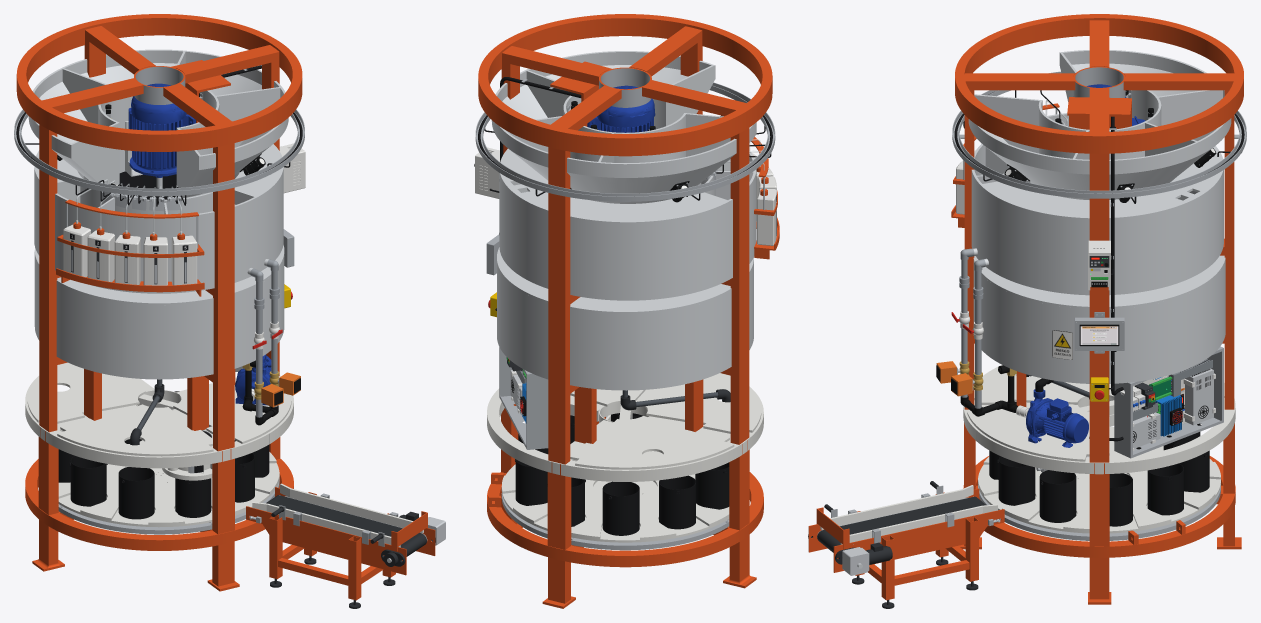
The model's file is maquina.glb.
The picture shows the model from 3 angles, left to right: view 1: azimuth 30°, elevation 25°; view 2: azimuth 150°, elevation 25°; view 3: azimuth 270°, elevation 25°; orthographic projection. The views are drawn at different scales.
Visible parts, largest first — view 1: estructura_01, tanque_agua_01, aro_superior_01, tanque_resina_01, tolvas_solidos_01, base_01, envases_aditivos, segundo_piso_01, estructura_01_entrepiso, bandeja_01, estructura_01_tapa, bandeja_portacables (+28 smaller); view 2: tanque_resina_01, estructura_01, tanque_agua_01, tolvas_solidos_01, aro_superior_01, base_01, estructura_01_entrepiso, segundo_piso_02, bandeja_01, estructura_01_tapa, bandeja_portacables, cubierta_tanque_agua__inox (+20 smaller); view 3: tanque_resina_01, tanque_agua_01, estructura_01, tolvas_solidos_01, aro_superior_01, base_01, bandeja_01, estructura_01_entrepiso, estructura_01_tapa, bandeja_portacables, cubierta_tanque_agua__inox, segundo_piso_03 (+32 smaller).
Boxes of the visible parts, x1,y1,x2,y2 form: estructura_01: (38, 30, 280, 534); tanque_agua_01: (34, 254, 284, 379); aro_superior_01: (16, 14, 302, 151); tanque_resina_01: (34, 144, 283, 293); tolvas_solidos_01: (28, 49, 288, 198); base_01: (25, 458, 293, 591); envases_aditivos: (63, 224, 197, 285); segundo_piso_01: (57, 404, 213, 456); estructura_01_entrepiso: (25, 375, 293, 468); bandeja_01: (58, 440, 279, 527); estructura_01_tapa: (42, 26, 278, 125); bandeja_portacables: (14, 109, 304, 196); tanque_resina_01: (499, 148, 756, 300); estructura_01: (501, 31, 749, 549); tanque_agua_01: (497, 263, 753, 390); tolvas_solidos_01: (491, 51, 756, 203); aro_superior_01: (478, 14, 772, 156); base_01: (487, 472, 763, 608); estructura_01_entrepiso: (487, 386, 763, 481); segundo_piso_02: (570, 416, 734, 469); bandeja_01: (501, 451, 729, 542); estructura_01_tapa: (502, 26, 746, 128); bandeja_portacables: (475, 82, 775, 201); cubierta_tanque_agua__inox: (497, 247, 753, 314); tanque_resina_01: (971, 113, 1223, 295); tanque_agua_01: (973, 260, 1225, 383); estructura_01: (964, 81, 1234, 546); tolvas_solidos_01: (968, 50, 1231, 199); aro_superior_01: (955, 14, 1243, 153); base_01: (958, 456, 1241, 604); bandeja_01: (978, 426, 1220, 533); estructura_01_entrepiso: (963, 374, 1235, 474); estructura_01_tapa: (964, 20, 1234, 131); bandeja_portacables: (952, 71, 1246, 198); cubierta_tanque_agua__inox: (973, 255, 1225, 308); segundo_piso_03: (967, 405, 1089, 461).
Bounding box in the file's own units: 1.39 × 2.13 × 1.8.
Materials: 42 (3 with a texture image).
